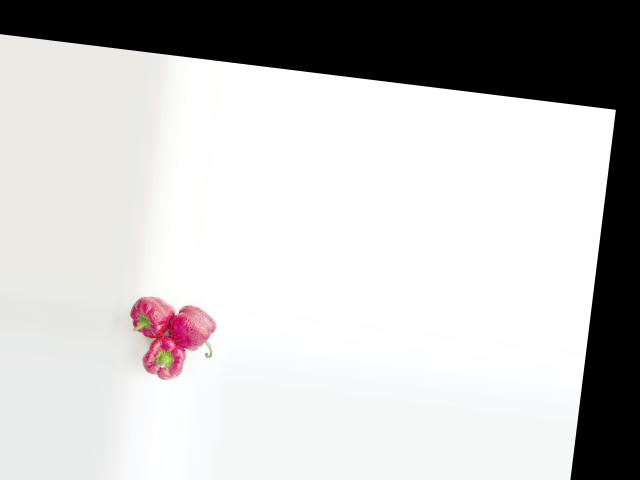bell_pepper: (169, 301, 229, 362)
